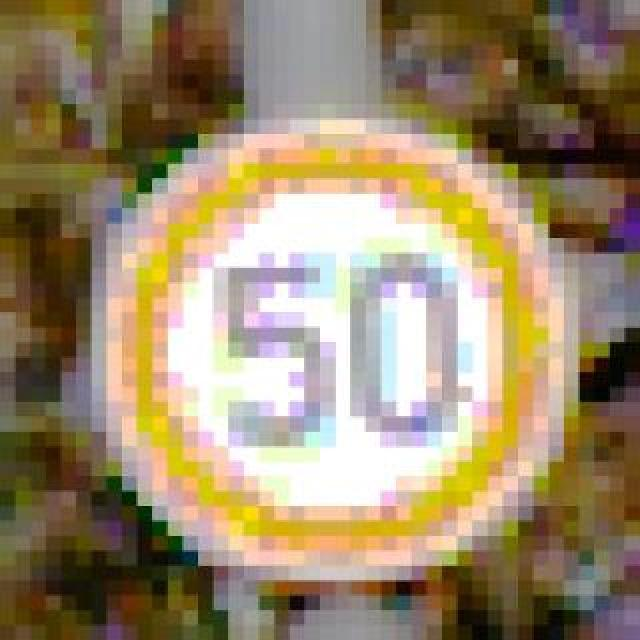50 kph: (92, 90, 564, 552)
